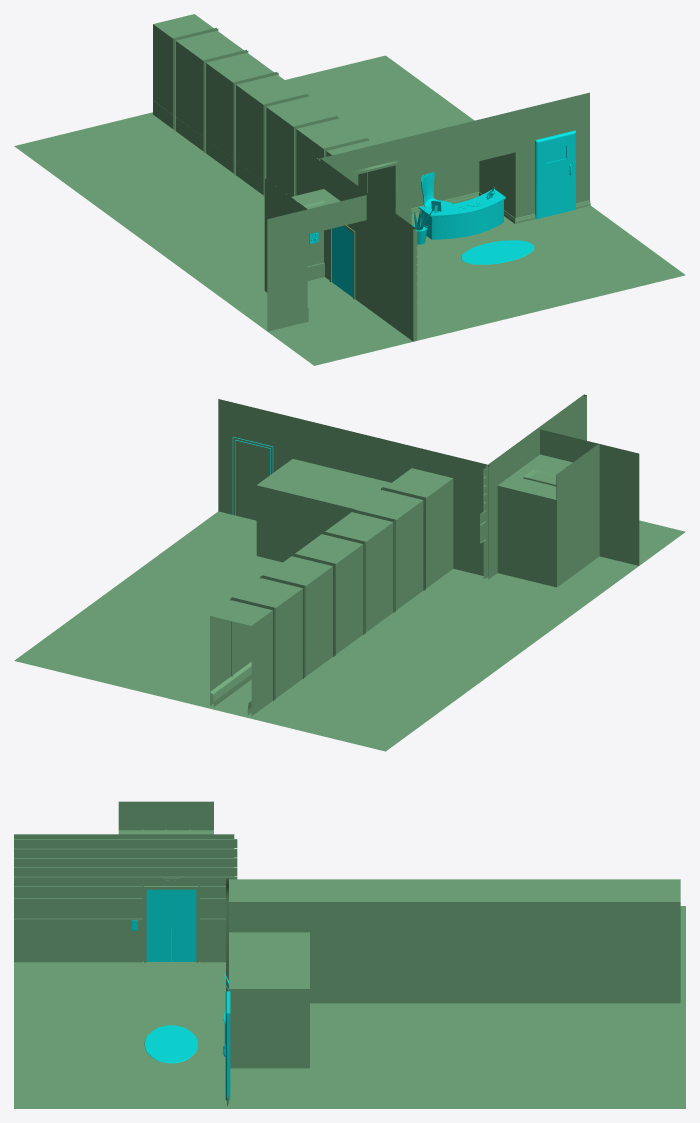
File: lobbyUnwrapped.fbx
The picture shows the model from 3 angles, top to bottom: view 1: azimuth 30°, elevation 25°; view 2: azimuth 150°, elevation 25°; view 3: azimuth 270°, elevation 25°; orthographic projection. The views are drawn at different scales.
Parts seen in each view (by area): view 1: floorGeo, lobby_walls_geo, door_lobby_to_closet, receptionDesk_geo, rug_geo, elevatorDoor1, elevatorDoor2; view 2: lobby_walls_geo, floorGeo; view 3: lobby_walls_geo, floorGeo, elevatorDoor1, elevatorDoor2, rug_geo, door_lobby_to_closet.
Part boxes in pixels (x1,y1,x2,y2): floorGeo: [14, 55, 685, 365]; lobby_walls_geo: [153, 14, 590, 341]; door_lobby_to_closet: [535, 130, 575, 219]; receptionDesk_geo: [418, 189, 505, 239]; rug_geo: [461, 240, 534, 264]; elevatorDoor1: [332, 226, 342, 289]; elevatorDoor2: [343, 226, 352, 297]; lobby_walls_geo: [210, 394, 639, 715]; floorGeo: [14, 511, 685, 751]; lobby_walls_geo: [14, 801, 680, 1106]; floorGeo: [14, 906, 685, 1108]; elevatorDoor1: [171, 889, 196, 961]; elevatorDoor2: [146, 889, 171, 961]; rug_geo: [144, 1025, 197, 1063]; door_lobby_to_closet: [223, 991, 230, 1100].
Size of the model in its own units: 71.27 by 20.73 by 99.74.
